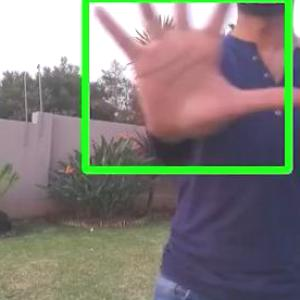follow_hand: (88, 0, 299, 148)
